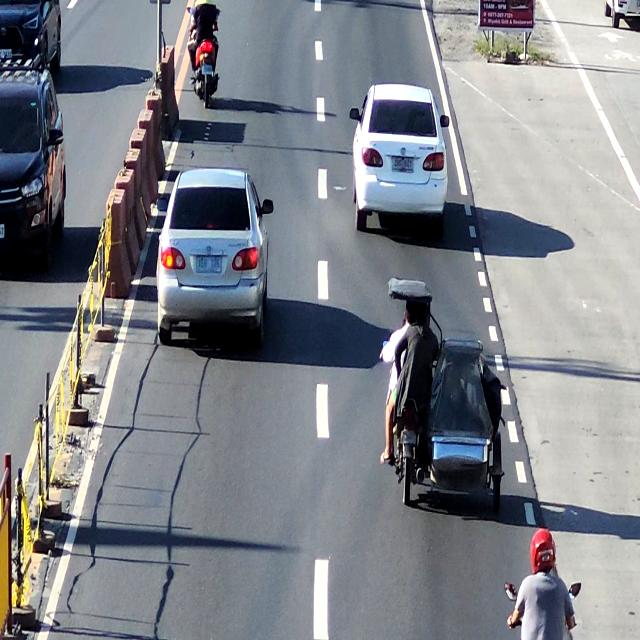Car: (157, 175, 270, 346), (351, 83, 447, 233)
License-Plate: (190, 250, 227, 278), (391, 151, 417, 174), (198, 62, 216, 78)
Motorcycle: (510, 522, 581, 640), (186, 0, 221, 113)
Tricycle: (382, 278, 508, 511)
